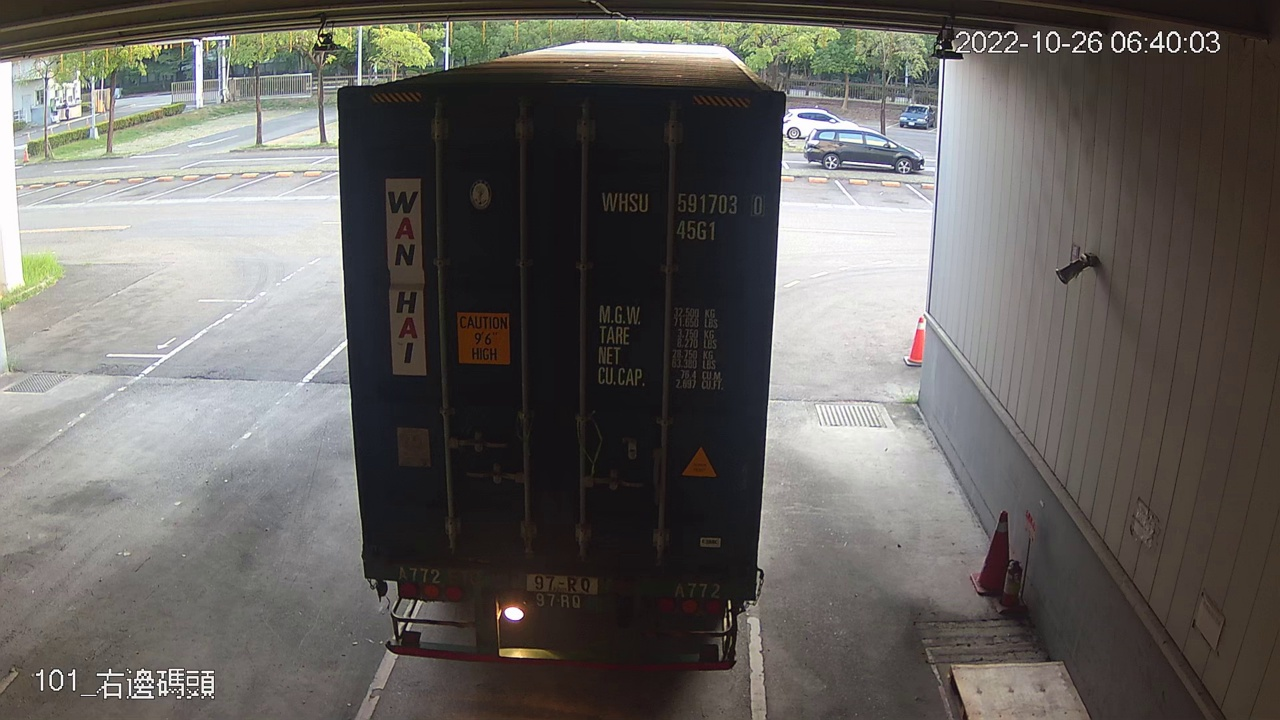container: (595, 185, 770, 245)
